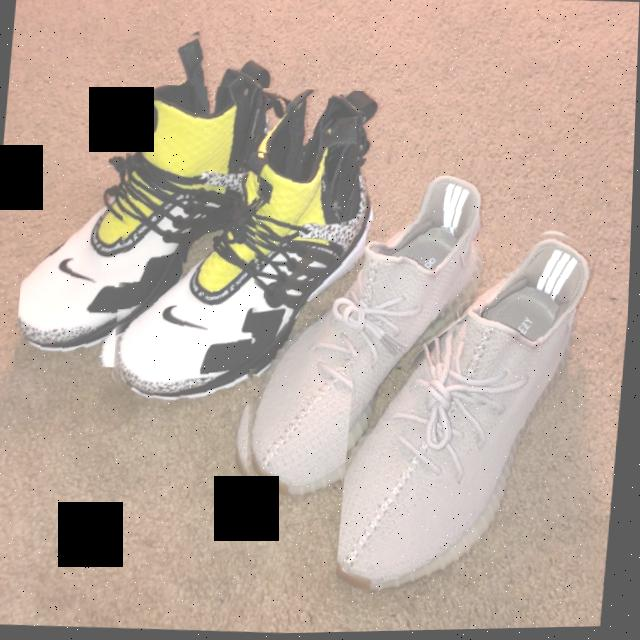shoe: (339, 218, 601, 606), (231, 150, 503, 518), (17, 19, 295, 377), (106, 80, 389, 420)
